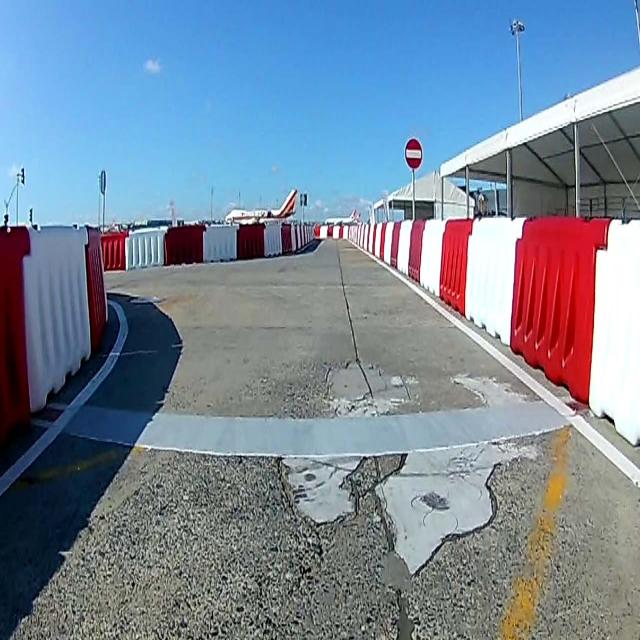girisyok: (403, 137, 424, 171)
